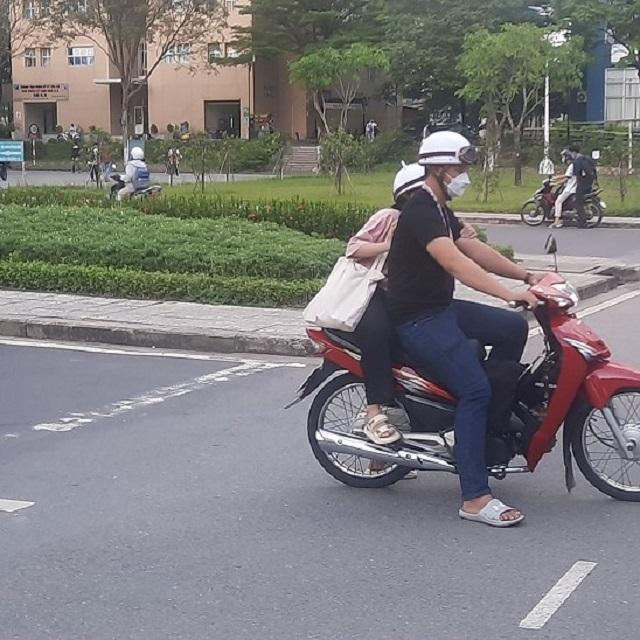Helmet: (416, 130, 476, 198), (392, 158, 436, 204)
